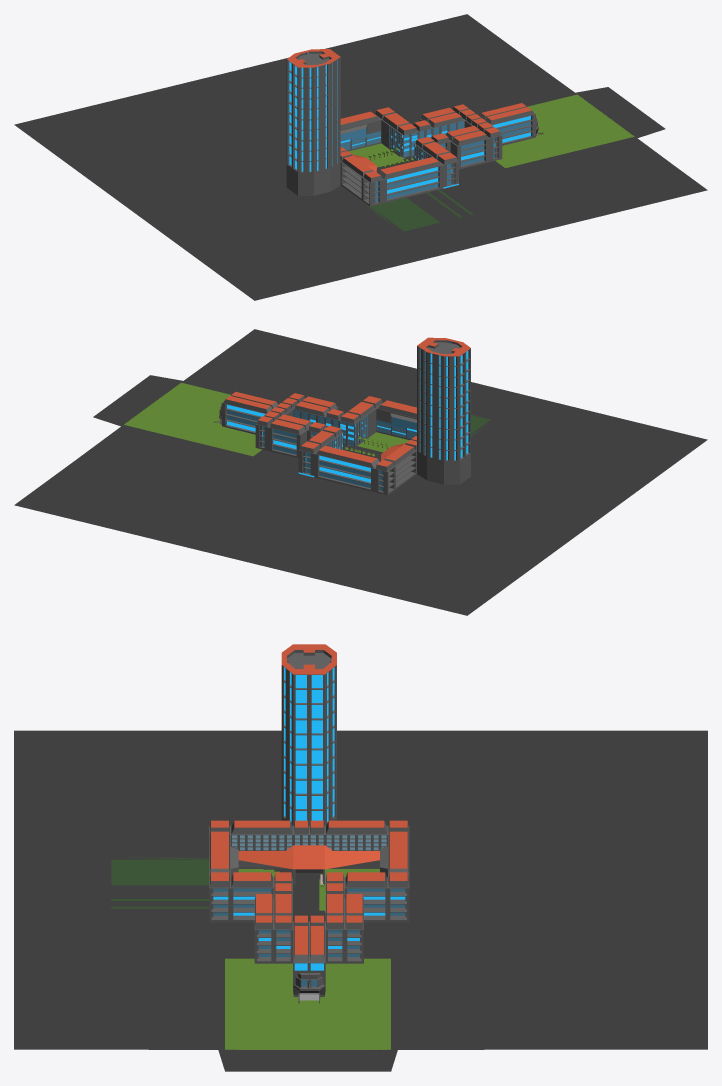
The model's file is school_v1.glb.
3 renders of one model, top to bottom at view 1: azimuth 30°, elevation 25°; view 2: azimuth 150°, elevation 25°; view 3: azimuth 270°, elevation 25°, orthographic. The views are drawn at different scales.
Visible parts, largest first — view 1: Plane, Cube.017; view 2: Plane, Cube.017; view 3: Plane, Cube.017.
Boxes of the visible parts, x1,y1,x2,y2 form: Plane: (14,14,707,300); Cube.017: (286,49,543,206); Plane: (14,329,707,615); Cube.017: (214,337,470,495); Plane: (14,730,707,1071); Cube.017: (209,644,409,1003).
Bounding box in the file's own units: 162 × 41.56 × 139.
3 materials, 1 textured.
